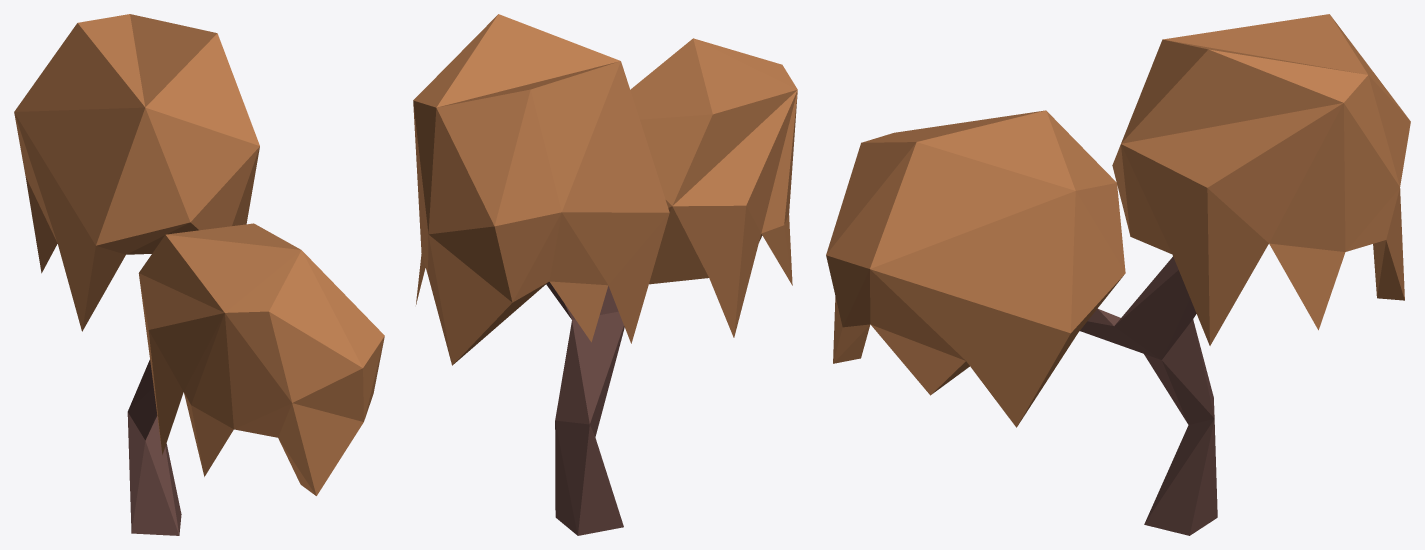
File: Willow_Autumn_5.lod3.glb
3 views of the same model, side by side, from view 1: azimuth 30°, elevation 25°; view 2: azimuth 150°, elevation 25°; view 3: azimuth 270°, elevation 25° (orthographic). The views are drawn at different scales.
Visible parts, largest first — view 1: Willow_Autumn_5; view 2: Willow_Autumn_5; view 3: Willow_Autumn_5.
Part boxes in pixels (<box>): Willow_Autumn_5: <box>14,14,384,535</box>; Willow_Autumn_5: <box>413,14,797,535</box>; Willow_Autumn_5: <box>826,14,1410,535</box>.
Bounding box in the file's own units: 0.9784 × 2.39 × 2.48.
